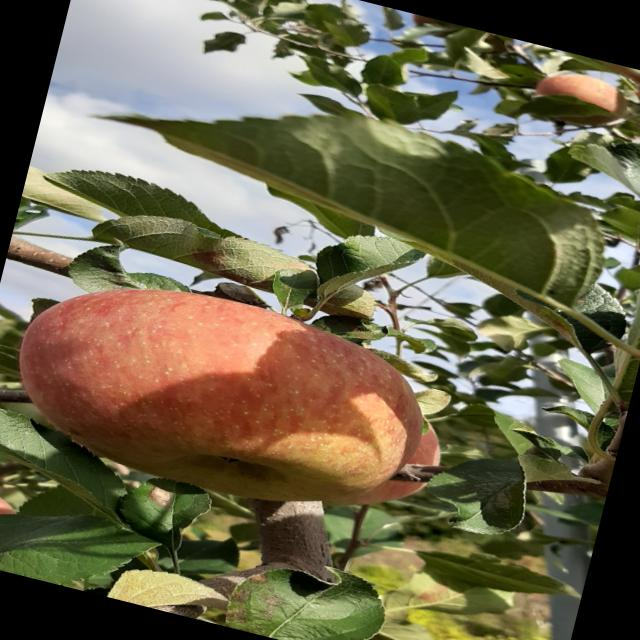fresh: (1, 246, 486, 551)
